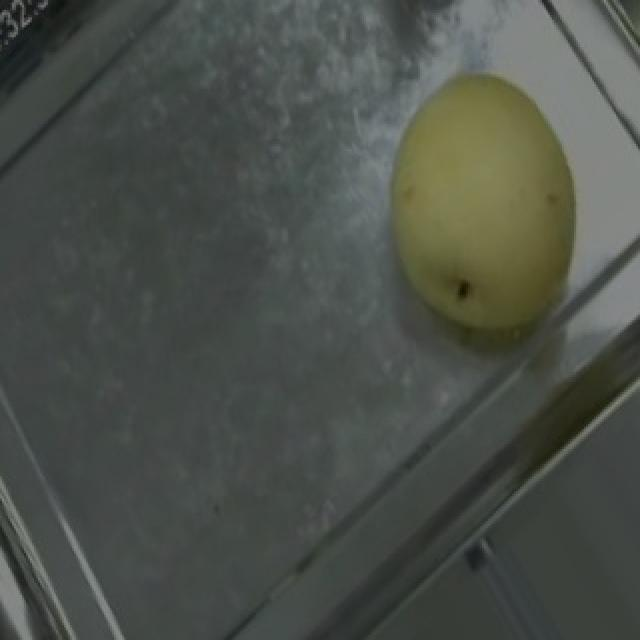Fruit: (342, 40, 630, 377)
